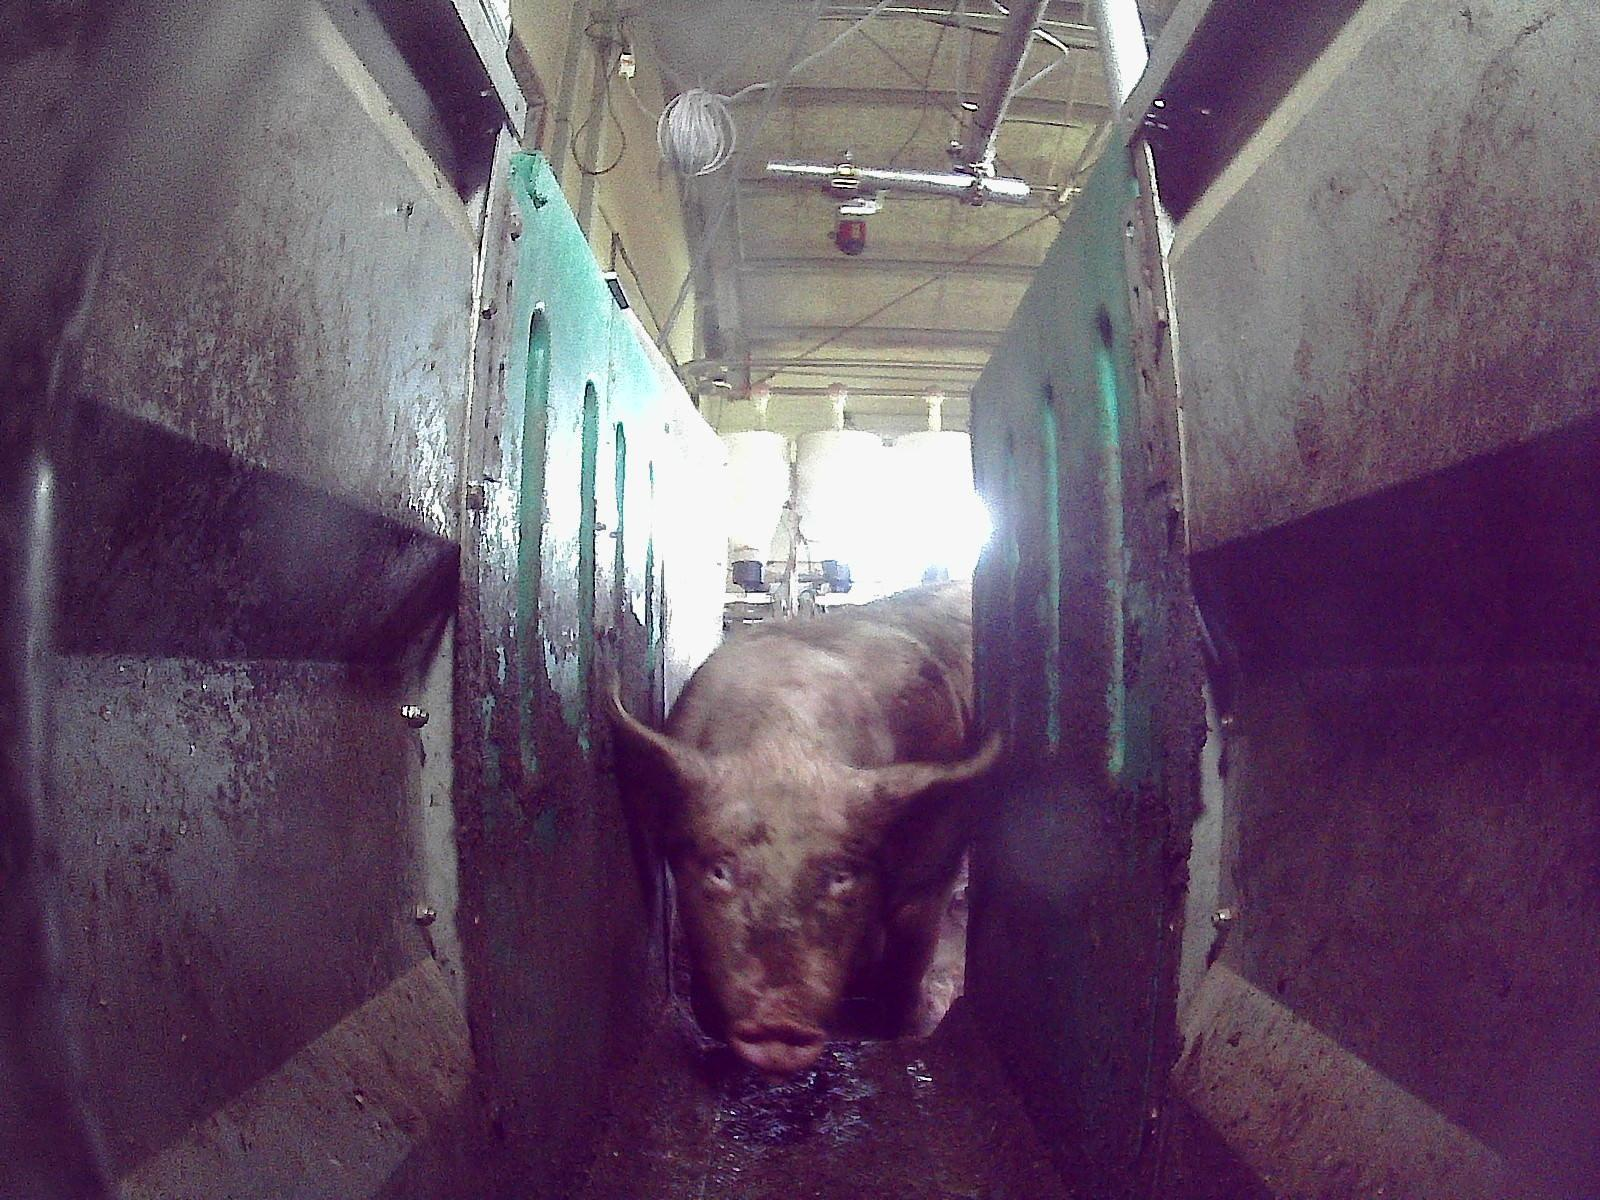Face: (662, 761, 874, 1074)
